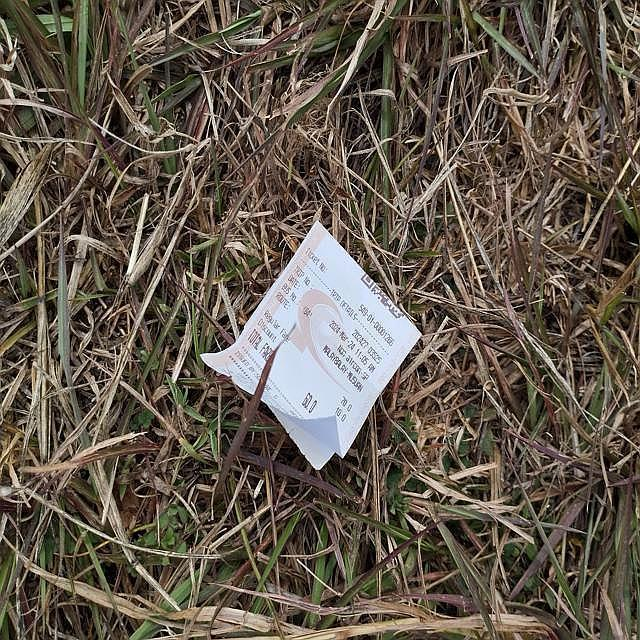Biodegradable: (198, 218, 427, 489)
